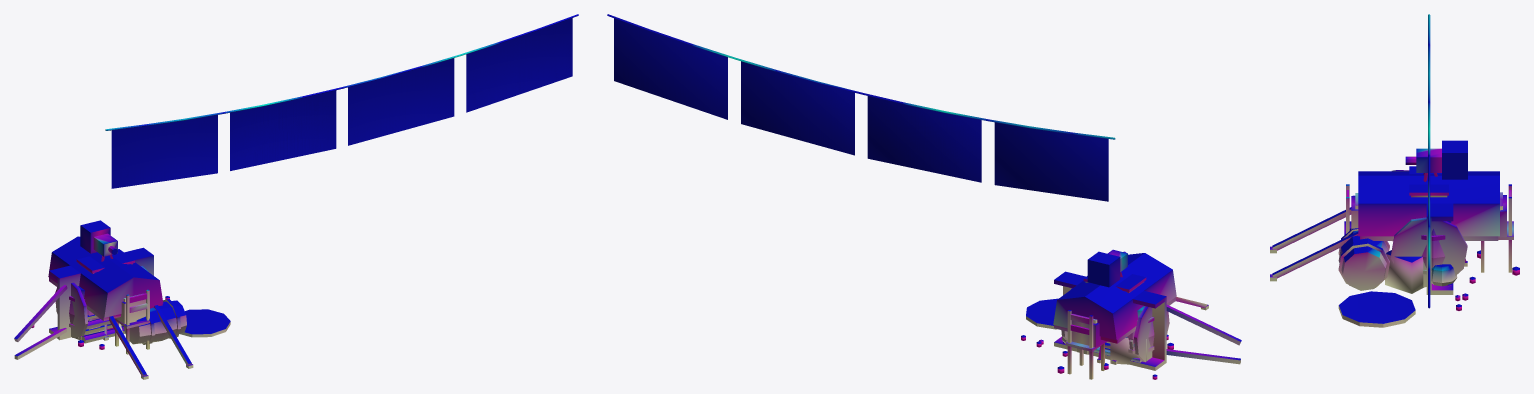
File: scene_kit.glb
3 views of the same model, side by side, from view 1: azimuth 30°, elevation 25°; view 2: azimuth 150°, elevation 25°; view 3: azimuth 270°, elevation 25° (orthographic). The views are drawn at different scales.
Visible parts, largest first — view 1: laundry_line, cart_covered, cart_overturned, pulque_barrels, coffin_on_chairs, camera_tripod, firewood_stack, barrel_organ; view 2: laundry_line, cart_covered, cart_overturned, coffin_on_chairs, camera_tripod, crates_spilled; view 3: cart_covered, cart_overturned, pulque_barrels, camera_tripod, crates_spilled, coffin_on_chairs, laundry_line, barrel_organ, comal_pots.
Boxes of the visible parts, x1,y1,x2,y2 form: laundry_line: (105, 14, 578, 188); cart_covered: (48, 236, 193, 379); cart_overturned: (14, 247, 230, 359); pulque_barrels: (69, 286, 186, 344); coffin_on_chairs: (114, 289, 149, 354); camera_tripod: (80, 220, 117, 261); firewood_stack: (78, 314, 125, 343); barrel_organ: (76, 249, 134, 332); laundry_line: (607, 14, 1115, 201); cart_covered: (1053, 253, 1208, 362); cart_overturned: (1026, 271, 1241, 370); coffin_on_chairs: (1065, 310, 1107, 379); camera_tripod: (1087, 249, 1127, 363); crates_spilled: (1021, 334, 1173, 379); cart_covered: (1270, 171, 1499, 287); cart_overturned: (1338, 170, 1453, 327); pulque_barrels: (1338, 221, 1451, 290); camera_tripod: (1405, 140, 1467, 266); crates_spilled: (1385, 241, 1519, 310); coffin_on_chairs: (1344, 184, 1513, 272); laundry_line: (1428, 14, 1430, 308); barrel_organ: (1409, 166, 1448, 197); comal_pots: (1431, 264, 1457, 286).
Size of the model in its own units: 9.77 by 3.21 by 2.89.
